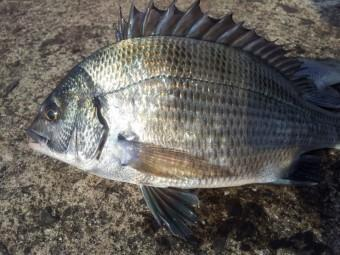fish: (23, 0, 339, 238)
